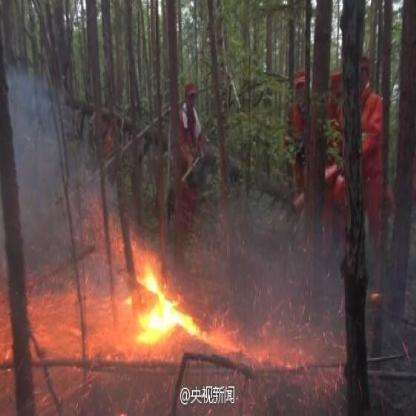fire: (116, 244, 204, 351)
